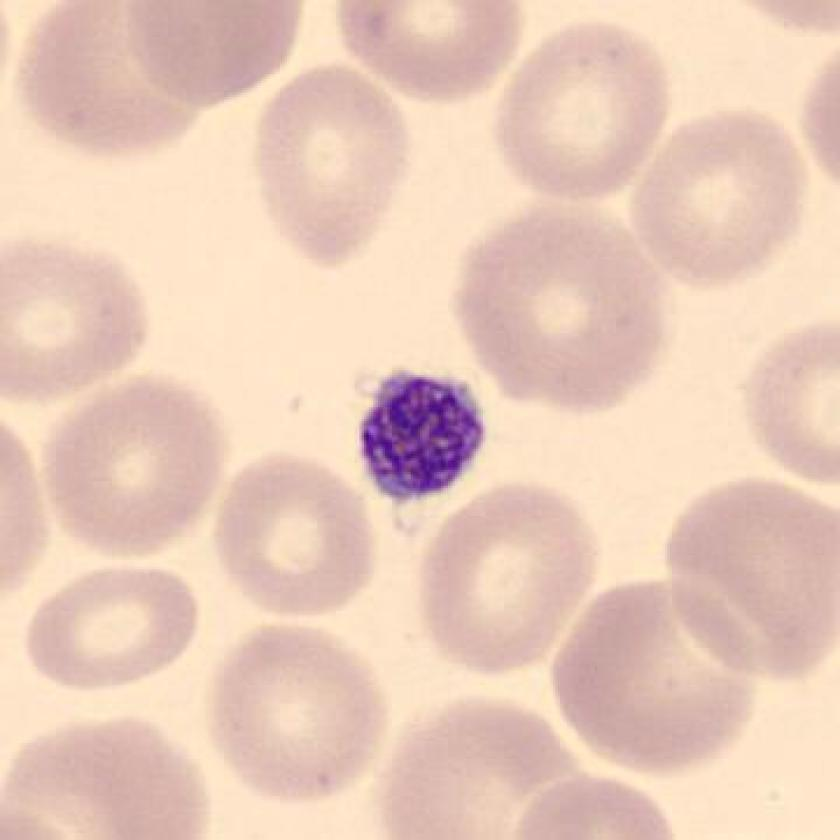platelets: (342, 353, 500, 517)
